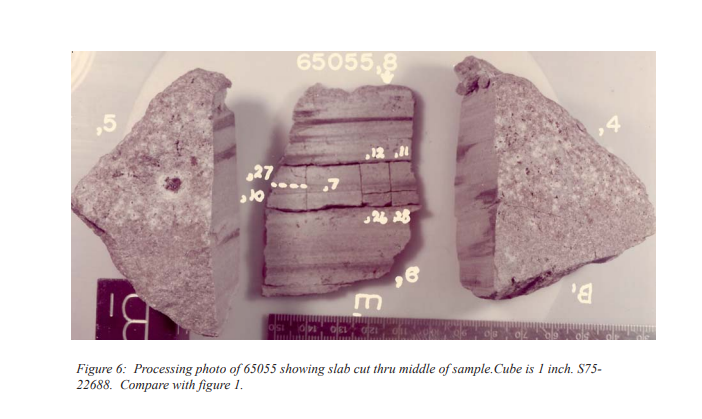Basalt: (440, 61, 665, 286), (80, 66, 246, 338), (271, 87, 417, 294)
